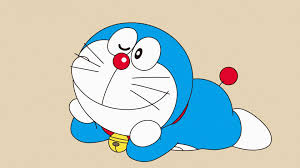doraemon: (67, 21, 272, 163)
